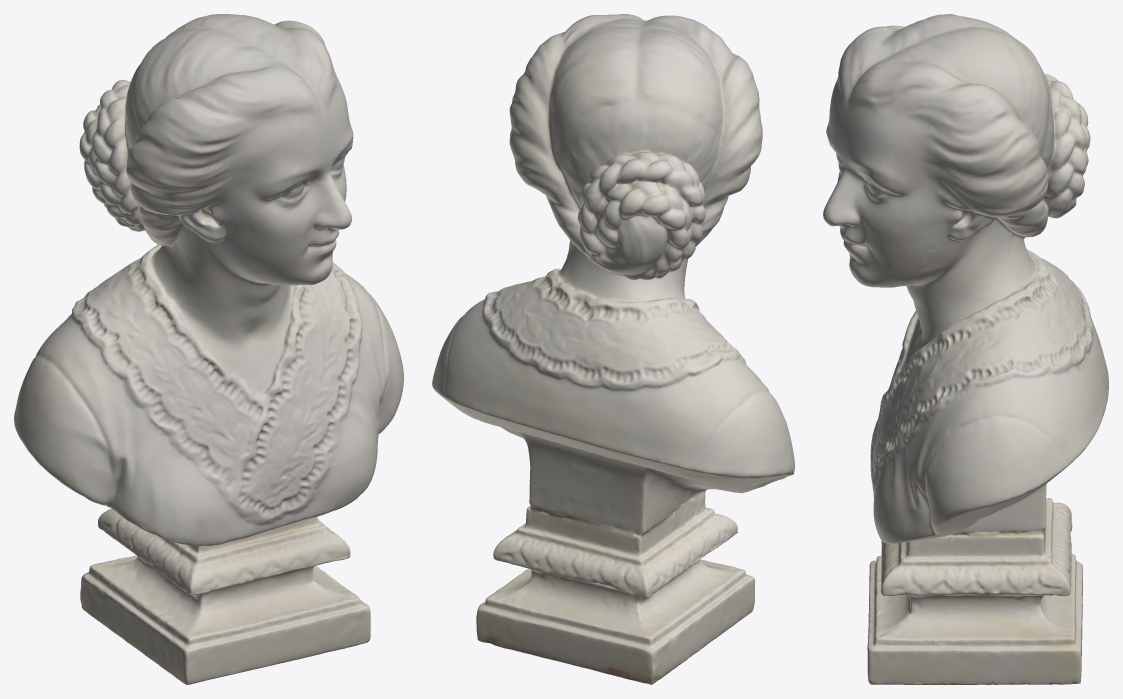
File: waterston_bust.glb
3 renders of one model, left to right at view 1: azimuth 30°, elevation 25°; view 2: azimuth 150°, elevation 25°; view 3: azimuth 270°, elevation 25°, orthographic. The views are drawn at different scales.
Visible parts, largest first — view 1: saam_1983_95_181-waterson-polish-2026-100k; view 2: saam_1983_95_181-waterson-polish-2026-100k; view 3: saam_1983_95_181-waterson-polish-2026-100k.
Boxes of the visible parts, bbox=[...] form: saam_1983_95_181-waterson-polish-2026-100k: bbox=[14, 14, 403, 684]; saam_1983_95_181-waterson-polish-2026-100k: bbox=[432, 14, 794, 684]; saam_1983_95_181-waterson-polish-2026-100k: bbox=[823, 14, 1108, 684].
Bounding box in the file's own units: 0.1885 × 0.3026 × 0.1291.
1 material, 1 textured.
